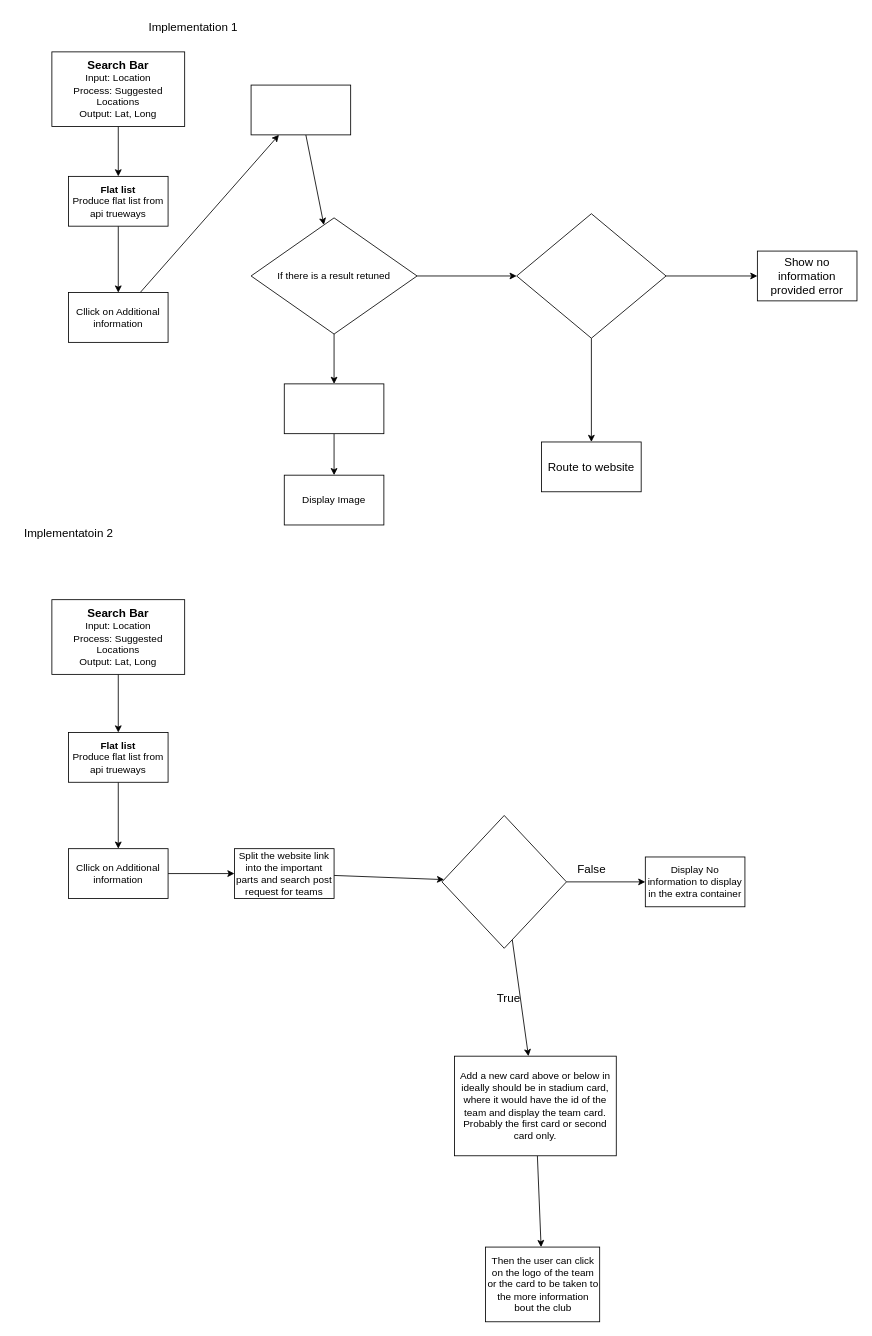
This 872x1336 diagram has some shape labels left out. Each missing label, with the centre of its shape:
"Expo route push to page" belongs at (x=333, y=408).
"Get venues request in Api-football-beta usnig the name of the stadium" belongs at (x=300, y=109).
"If results are returned:" belongs at (x=503, y=881).
"If route to website exists" belongs at (x=591, y=275).
